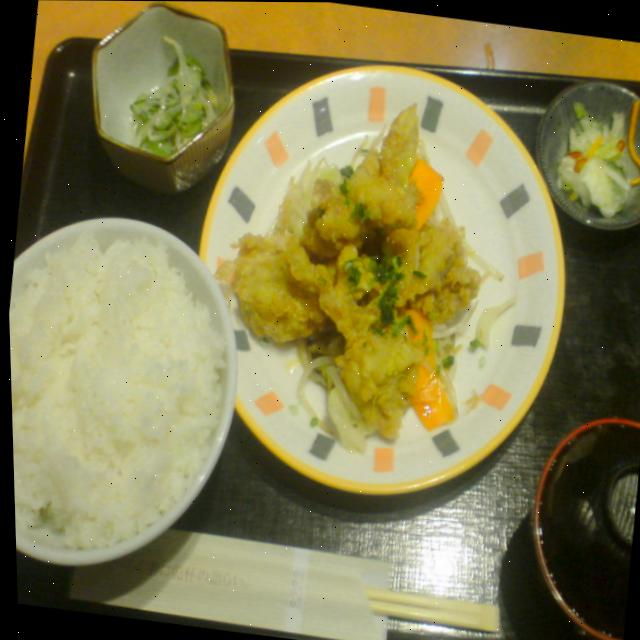米饭主食: (5, 217, 254, 574)
